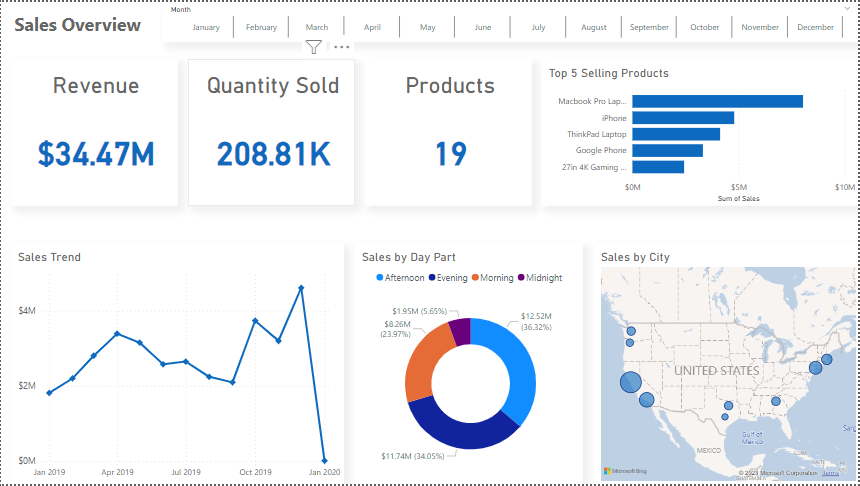

This screenshot's page, from the dashboard's own definition file:
{"tool":"powerbi","page":{"name":"Sales Overview","canvas":[1280,720],"ordinal":0},"visuals":[{"type":"textbox","box":[14.9,9,213.4,59.7],"z":0},{"type":"slicer","fields":{"Values":["clean_data.Order Date.Variation.Date Hierarchy.Month"]},"box":[240.3,0,1040.3,59.7],"z":1000},{"type":"card","title":"Revenue","fields":{"Values":["calculations.Revenue"]},"box":[14.9,85.1,249.3,219.4],"z":2000},{"type":"card","title":"Quantity Sold","fields":{"Values":["calculations.Total Quantity Sold"]},"box":[279.1,85.1,249.3,219.4],"z":3000},{"type":"card","title":"Total Products","fields":{"Values":["calculations.Products"]},"box":[543.3,85.1,249.3,219.4],"z":4000},{"type":"barChart","title":"Top 5 Selling Products","fields":{"Category":["clean_data.Product"],"Y":["Sum(clean_data.Sales)"]},"box":[807.5,85.1,473.1,219.4],"z":5000},{"type":"lineChart","title":"Sales Trend","fields":{"Y":["Sum(clean_data.Sales)"],"Category":["clean_data.Order Date.Variation.Date Hierarchy.Year","clean_data.Order Date.Variation.Date Hierarchy.Quarter","clean_data.Order Date.Variation.Date Hierarchy.Month"]},"box":[14.9,359.7,497,359.7],"z":6000},{"type":"donutChart","title":"Sales by Day Part","fields":{"Y":["Sum(clean_data.Sales)"],"Category":["clean_data.Day Part"]},"box":[528.4,359.7,340.3,359.7],"z":7000},{"type":"map","title":"Sales by City","fields":{"Category":["clean_data.City"],"Size":["Sum(clean_data.Sales)"]},"box":[885.1,359.7,395.5,359.7],"z":8000}]}

Visuals, with their boxes in screenshot pixels (x1, y1, x2, y2), scaled from the page's 1280x720 canvas onto the 860x486 screenshot:
textbox: left=10, top=6, right=153, bottom=46
slicer - clean_data.Order Date.Variation.Date Hierarchy.Month: left=161, top=0, right=859, bottom=40
"Revenue" card: left=10, top=57, right=178, bottom=206
"Quantity Sold" card: left=188, top=57, right=355, bottom=206
"Total Products" card: left=365, top=57, right=533, bottom=206
"Top 5 Selling Products" barChart: left=543, top=57, right=859, bottom=206
"Sales Trend" lineChart: left=10, top=243, right=344, bottom=485
"Sales by Day Part" donutChart: left=355, top=243, right=584, bottom=485
"Sales by City" map: left=595, top=243, right=859, bottom=485
